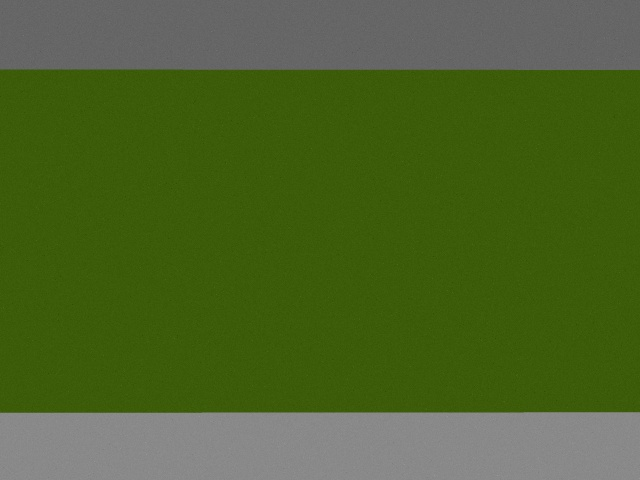green_drop_zone: (0, 69, 640, 413)
